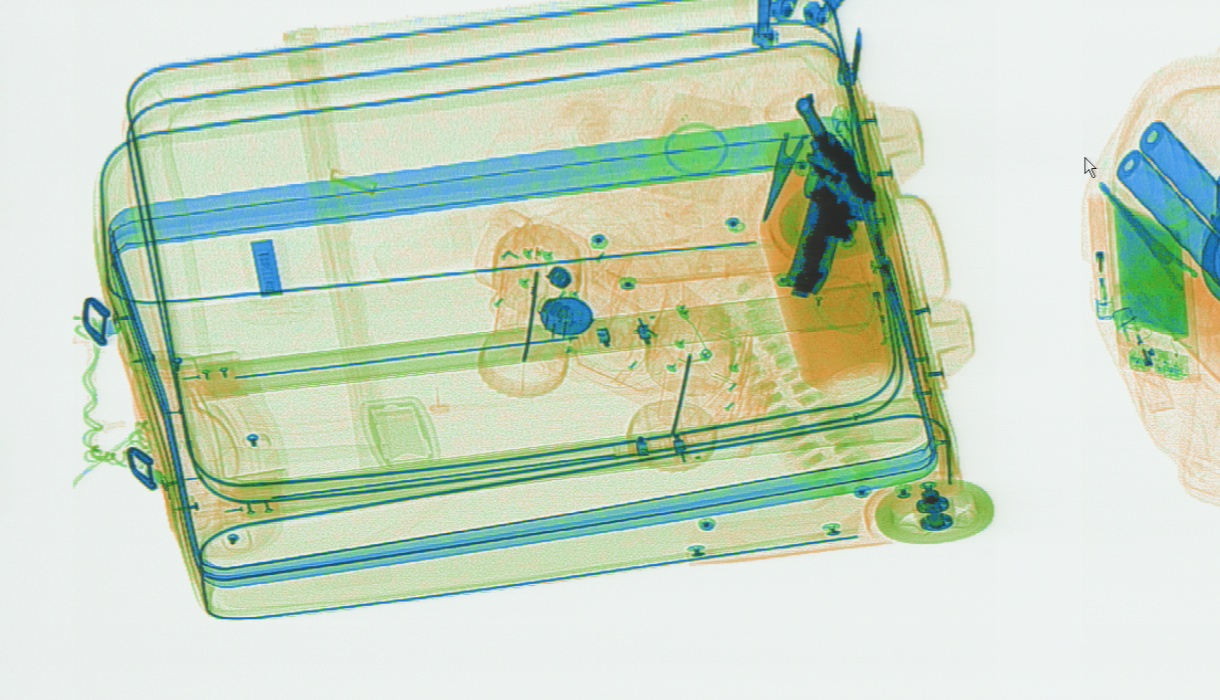firecrackers: (693, 262, 891, 513)
lighter: (1108, 303, 1173, 411), (1086, 187, 1117, 320), (859, 252, 901, 344)
scissors: (1096, 178, 1217, 332), (759, 88, 845, 220)
